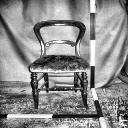chair_success: (21, 18, 92, 112)
